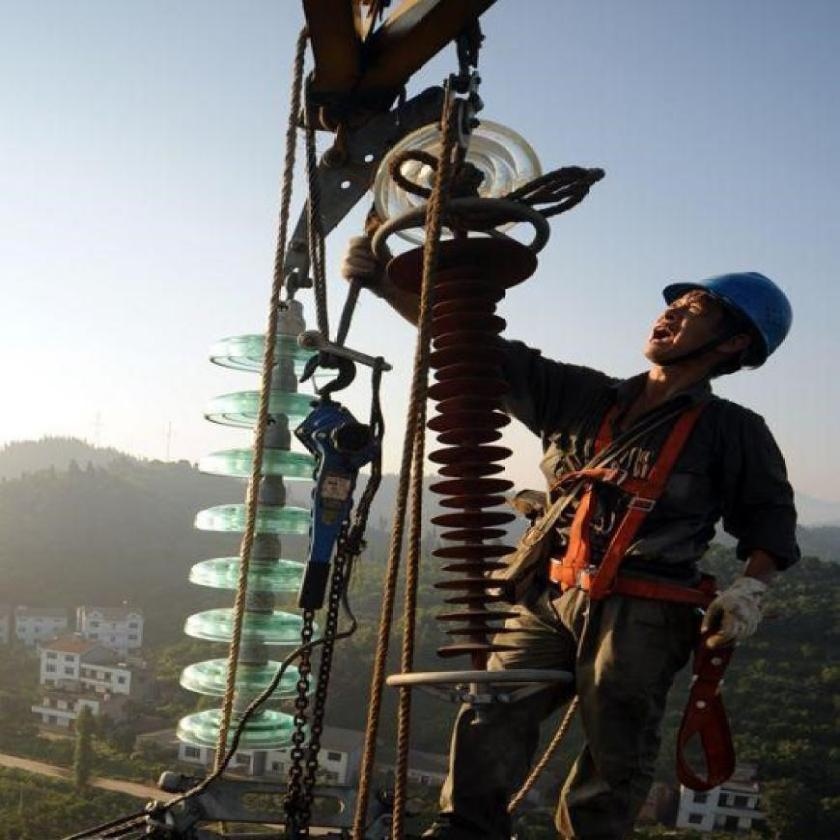Con_casco: (639, 260, 796, 395)
